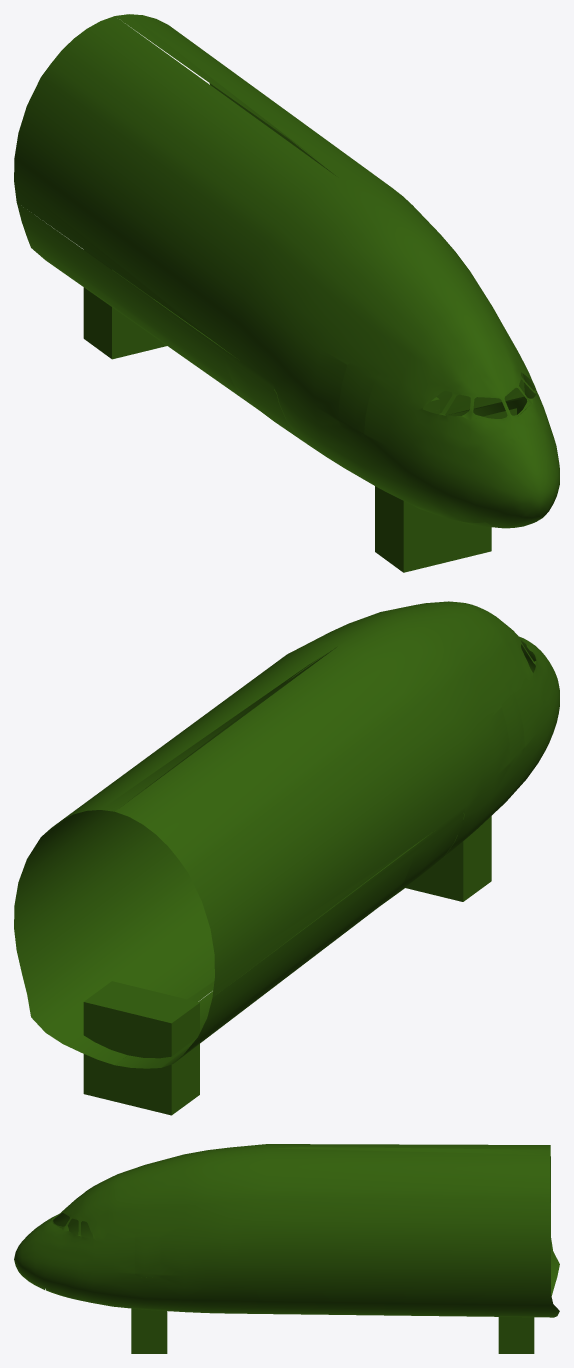
The model's file is rig.glb.
The picture shows the model from 3 angles, top to bottom: view 1: azimuth 30°, elevation 25°; view 2: azimuth 150°, elevation 25°; view 3: azimuth 270°, elevation 25°; orthographic projection. The views are drawn at different scales.
Visible parts, largest first — view 1: chassis_vlo_0-material.001, Cube, Cube.001; view 2: chassis_vlo_0-material.001, Cube.001, Cube; view 3: chassis_vlo_0-material.001, Cube, Cube.001.
Part boxes in pixels (bbox=[...]): chassis_vlo_0-material.001: bbox=[14, 14, 559, 528]; Cube: bbox=[375, 486, 491, 572]; Cube.001: bbox=[83, 250, 166, 359]; chassis_vlo_0-material.001: bbox=[14, 601, 559, 1068]; Cube.001: bbox=[83, 981, 199, 1115]; Cube: bbox=[405, 812, 491, 901]; chassis_vlo_0-material.001: bbox=[14, 1144, 559, 1317]; Cube: bbox=[131, 1277, 167, 1353]; Cube.001: bbox=[498, 1317, 534, 1353].
Size of the model in its own units: 6.91 by 10.1 by 25.81.
